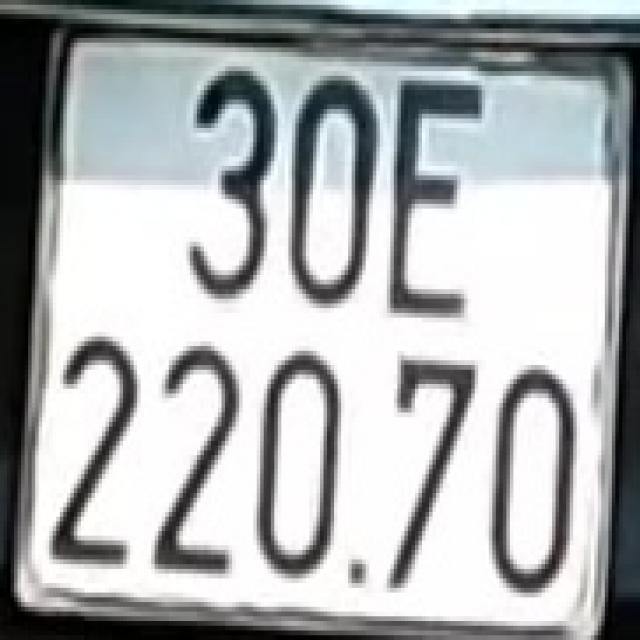0: (285, 66, 376, 308), (488, 360, 576, 598), (253, 346, 341, 578)
2: (49, 332, 137, 569), (151, 336, 236, 574)
3: (186, 62, 274, 304)
7: (383, 350, 475, 592)
E: (387, 66, 485, 318)
